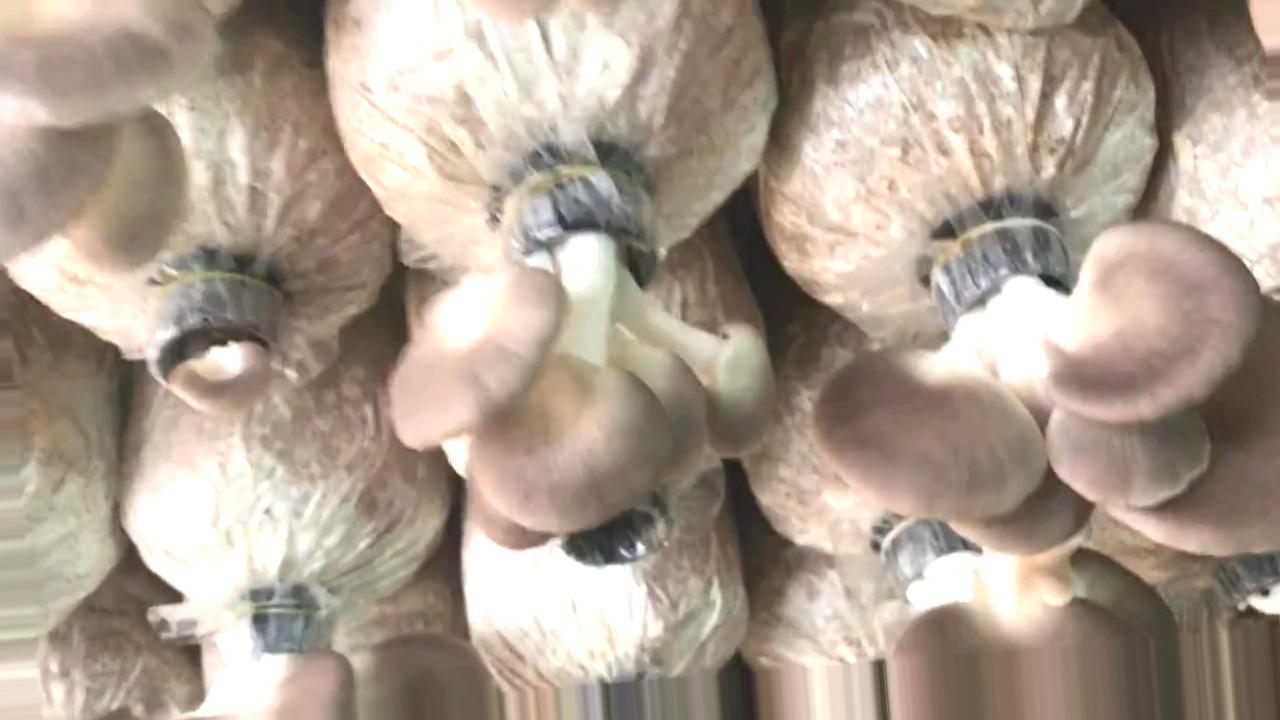nam: (817, 222, 1280, 556), (392, 175, 776, 544), (881, 517, 1179, 720), (1, 1, 213, 269), (155, 600, 500, 720), (144, 267, 276, 410)
